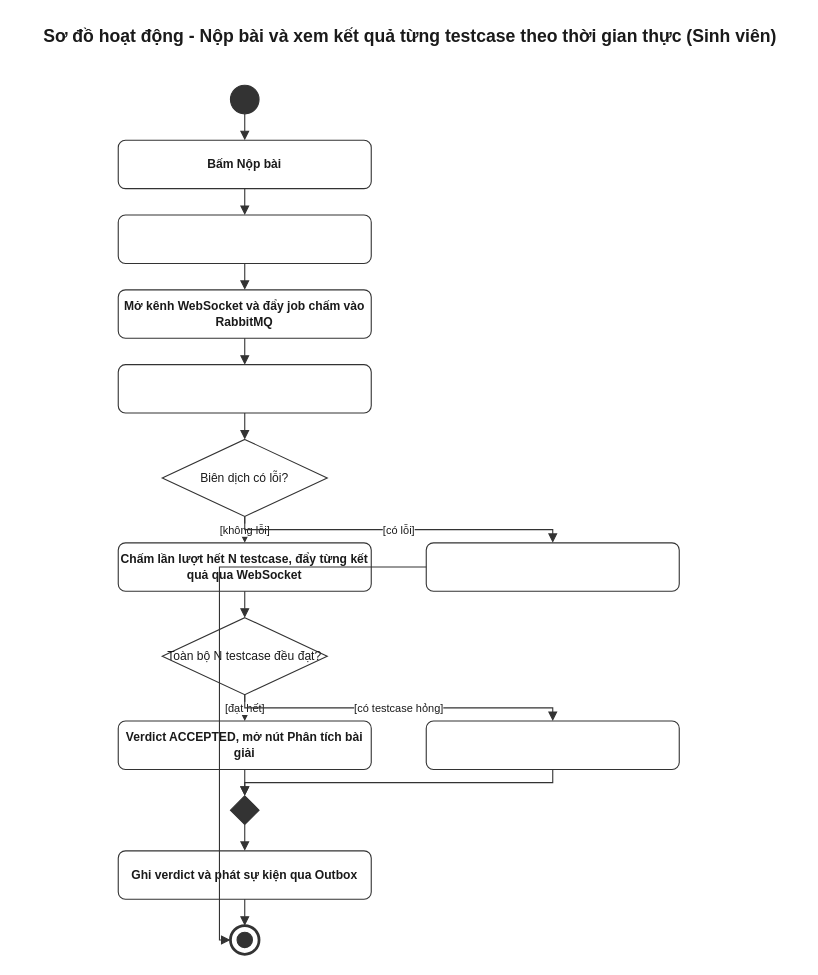
Image size: 818x975. Some labels were removed from this diagram. Here are the shapes that lost their labels. From the top down, the centre of each, then its label:
(x=244, y=238): Lưu bản nộp trạng thái PENDING, trả submissionId ngay
(x=244, y=388): Worker sinh mã bọc hàm, ghép mã người học rồi biên dịch
(x=552, y=566): Ánh xạ lỗi về đúng dòng mã người học, đặt COMPILE_ERROR
(x=552, y=744): Verdict lấy theo testcase hỏng đầu tiên, vẫn tính điểm tỉ lệ
